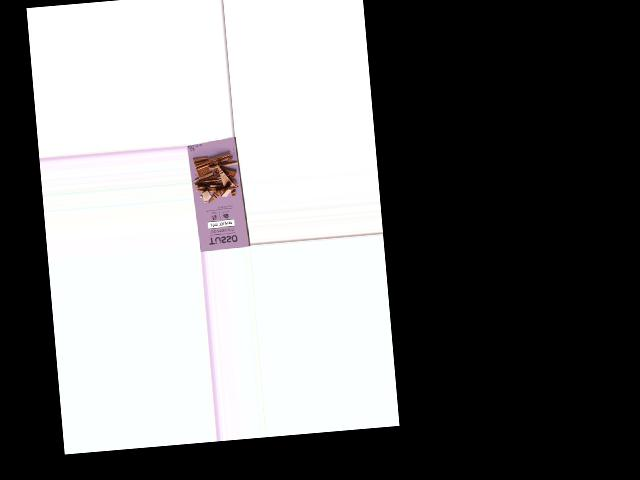chocolate: (189, 136, 247, 249)
